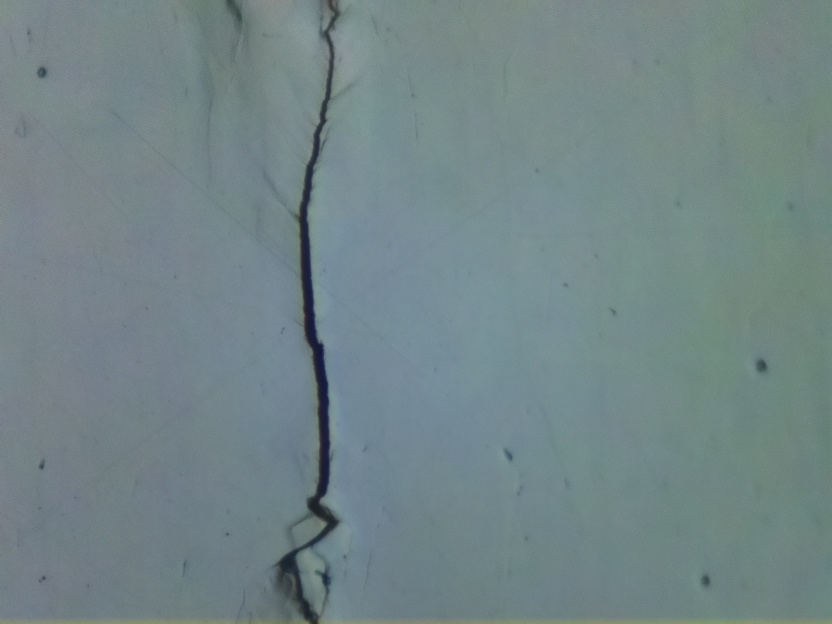crack: (272, 0, 349, 624)
